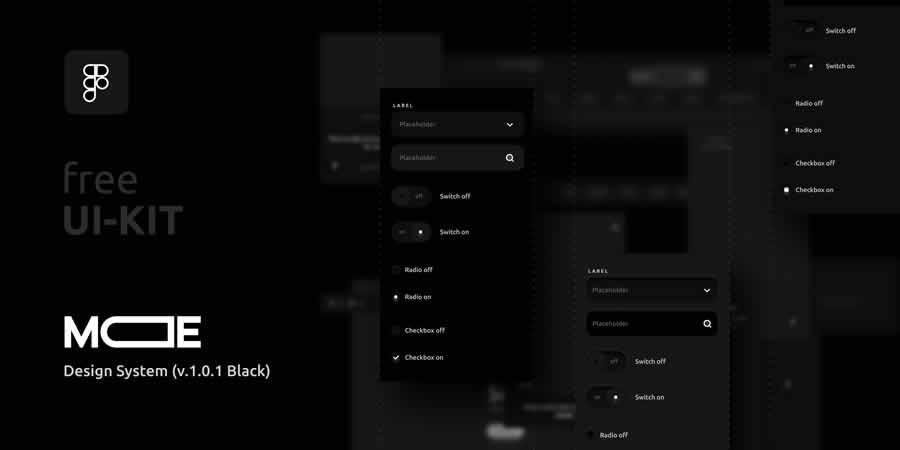checkbox: (393, 326, 403, 338), (394, 354, 401, 364)
dropdown: (389, 112, 527, 139), (588, 279, 718, 306)
input: (391, 145, 525, 171), (585, 312, 719, 338), (391, 187, 436, 208)
radio: (585, 431, 597, 442), (393, 292, 403, 305), (392, 265, 403, 276)
switch: (588, 351, 627, 375), (587, 386, 626, 409), (394, 223, 432, 244)
